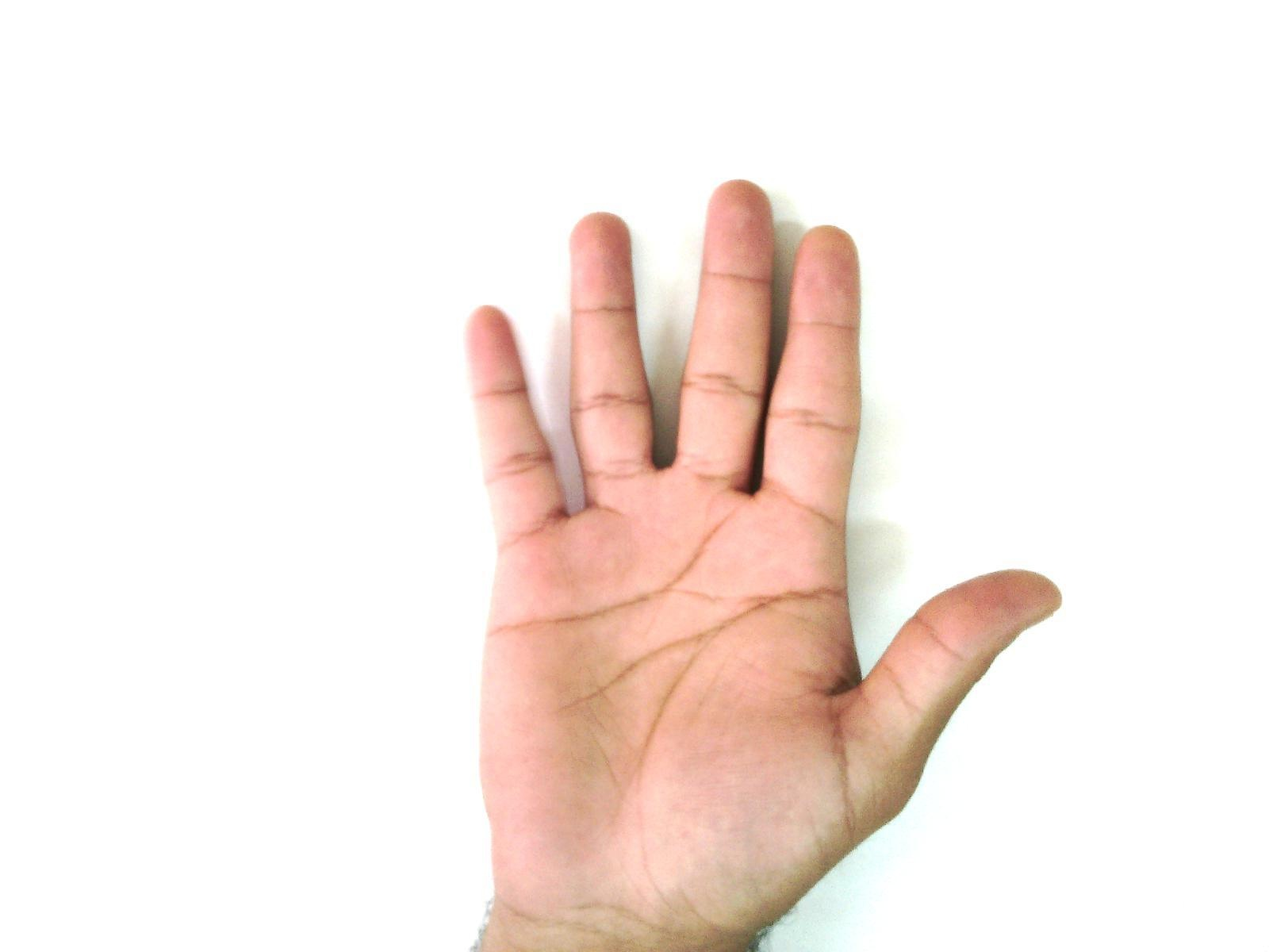open_palm: (459, 178, 1064, 933)
